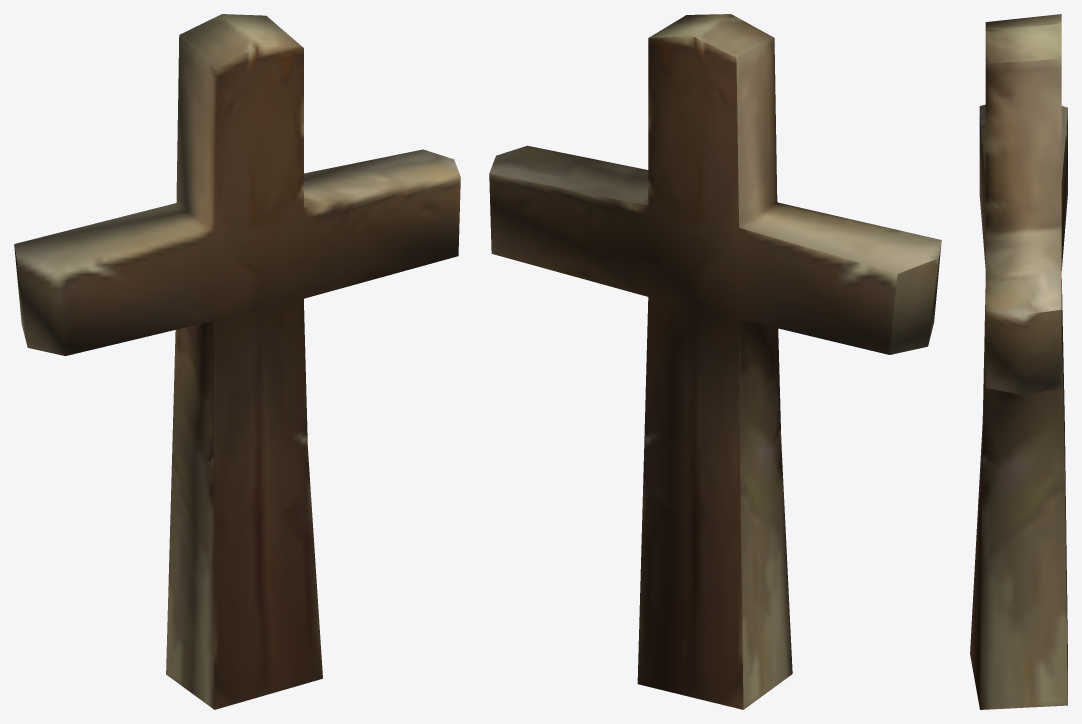
File: mubei_shizijia.FBX
The picture shows the model from 3 angles, left to right: view 1: azimuth 30°, elevation 25°; view 2: azimuth 150°, elevation 25°; view 3: azimuth 270°, elevation 25°; orthographic projection.
Visible parts, largest first — view 1: shizijia; view 2: shizijia; view 3: shizijia.
Boxes of the visible parts, <box> form: shizijia: <box>14,14,460,709</box>; shizijia: <box>489,14,941,709</box>; shizijia: <box>970,14,1067,709</box>.
Bounding box in the file's own units: 27.26 × 38.76 × 5.25.
